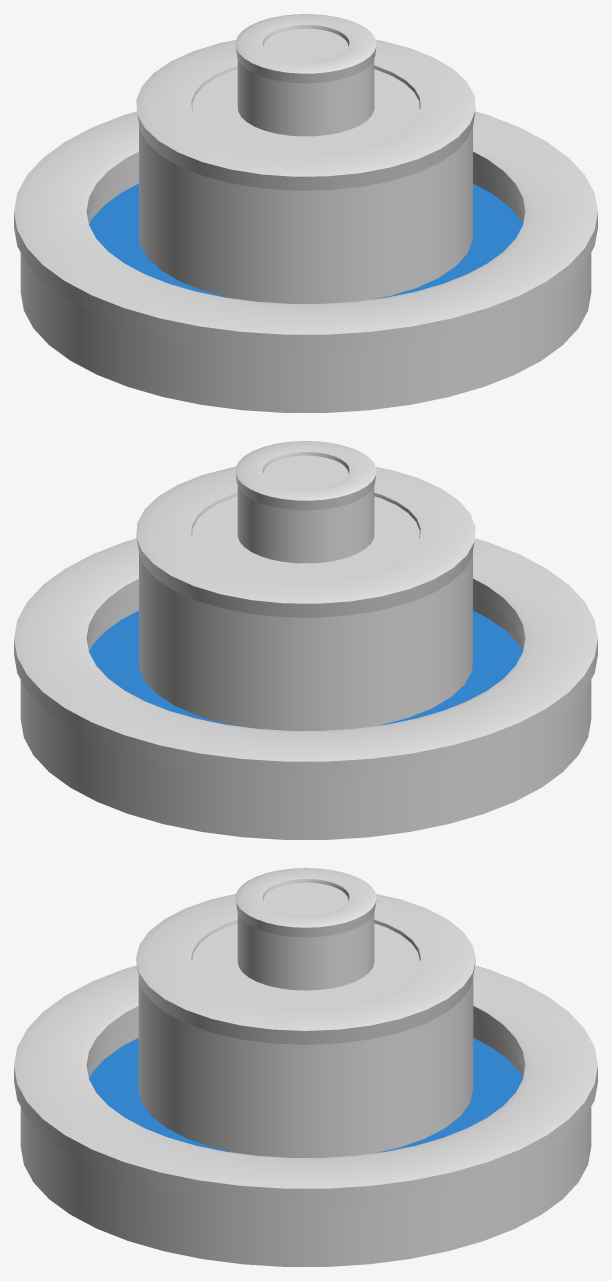
Rendered from fountain.fbx.
3 views of the same model, one above another, from view 1: azimuth 30°, elevation 25°; view 2: azimuth 150°, elevation 25°; view 3: azimuth 270°, elevation 25° (orthographic).
Parts seen in each view (by area): view 1: Cylinder.004; view 2: Cylinder.004; view 3: Cylinder.004.
Part boxes in pixels (x1=…): Cylinder.004: x1=14, y1=14, x2=597, y2=412; Cylinder.004: x1=14, y1=441, x2=597, y2=839; Cylinder.004: x1=14, y1=868, x2=597, y2=1266.
Size of the model in its own units: 502 by 238 by 503.
